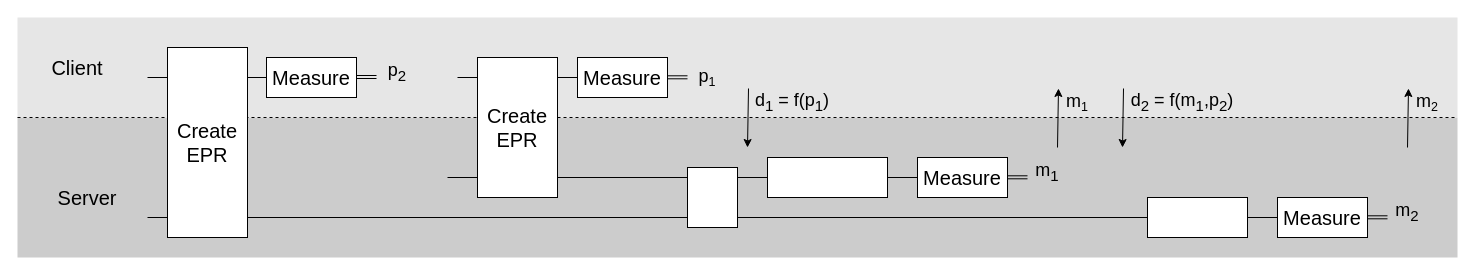
Image size: 1476x274. Some labels were removed from this diagram. Here are the shapes that lost their labels. From the top down, the centre of each, then its label:
pixel 712 197: CZ
pixel 827 177: Rotate d 1
pixel 1197 217: Rotate d 2
